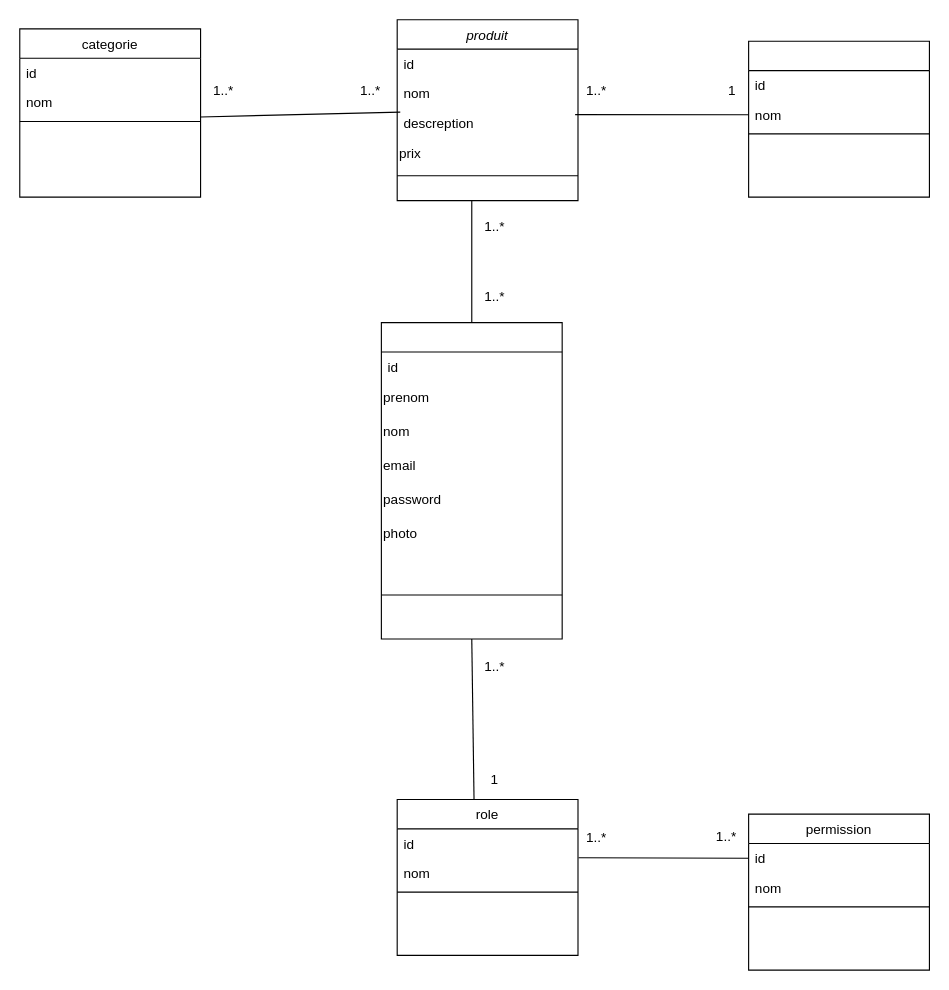
Some shapes in this 949 by 990 pixel diagram are drawn without their labels. Here are the shapes that lost their labels. From the top down, the box of each, then its label:
(747, 40, 929, 197): materiel
(380, 321, 562, 639): user
